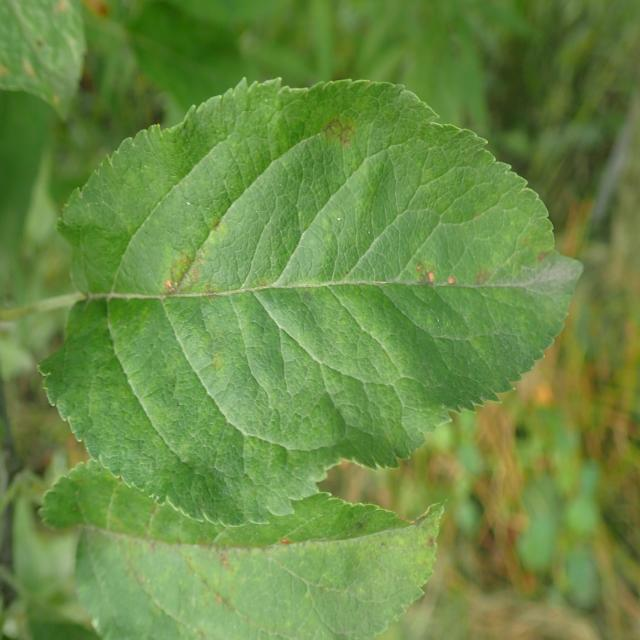scab: (51, 80, 590, 354), (0, 463, 453, 640)
